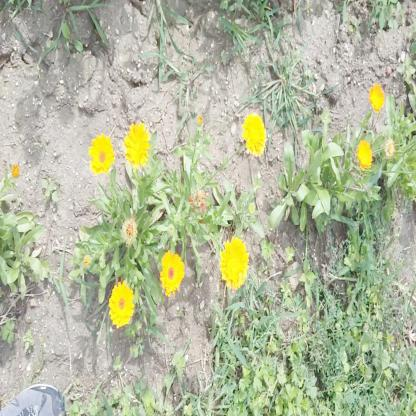marigold: (220, 238, 246, 288), (123, 121, 148, 167), (108, 282, 134, 326), (160, 253, 182, 296), (242, 111, 265, 152), (88, 133, 111, 174), (366, 82, 384, 113), (357, 140, 373, 167)
